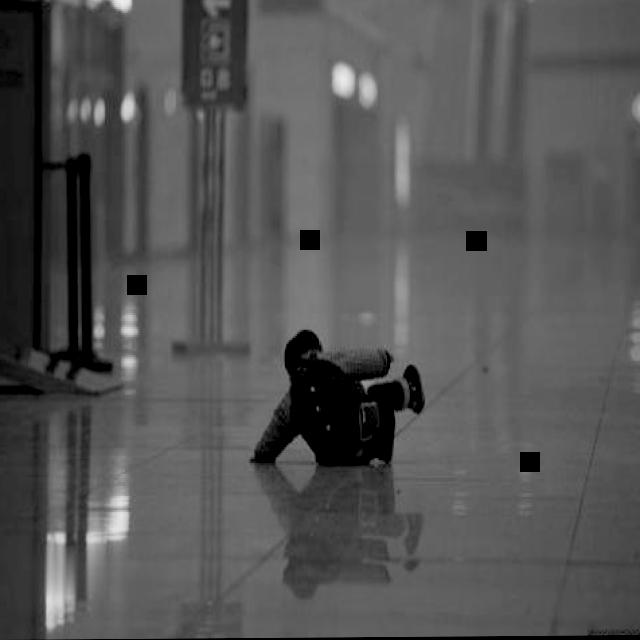Fall-Detected: (250, 309, 440, 476)
